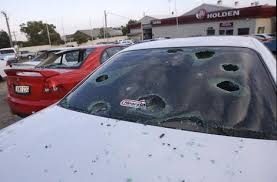Broken-glass: (89, 46, 258, 115)
